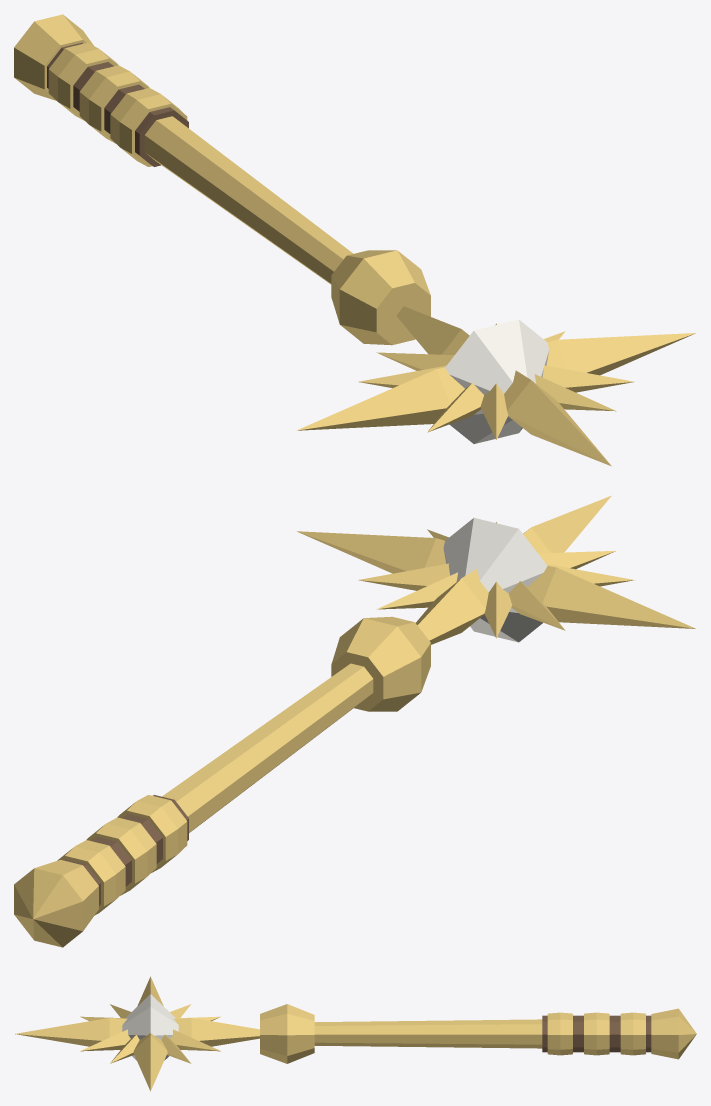
The model's file is sunspire.glb.
The picture shows the model from 3 angles, top to bottom: view 1: azimuth 30°, elevation 25°; view 2: azimuth 150°, elevation 25°; view 3: azimuth 270°, elevation 25°; orthographic projection. The views are drawn at different scales.
Parts seen in each view (by area): view 1: sunspire; view 2: sunspire; view 3: sunspire.
Boxes of the visible parts, bbox=[...] form: sunspire: bbox=[14, 14, 695, 466]; sunspire: bbox=[14, 495, 695, 947]; sunspire: bbox=[15, 976, 696, 1091].
Size of the model in its own units: 0.3 by 0.0813 by 0.75.
